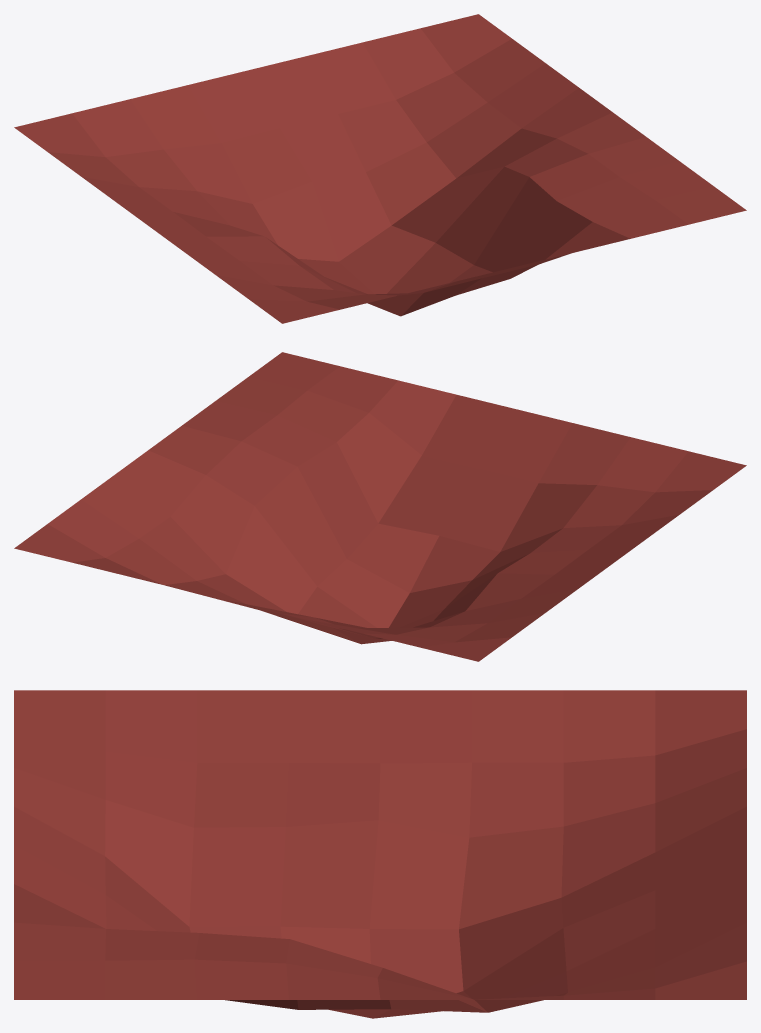
File: Terrain_14_Red.fbx
3 views of the same model, one above another, from view 1: azimuth 30°, elevation 25°; view 2: azimuth 150°, elevation 25°; view 3: azimuth 270°, elevation 25° (orthographic). The views are drawn at different scales.
Visible parts, largest first — view 1: Terrain_14_Red; view 2: Terrain_14_Red; view 3: Terrain_14_Red.
Boxes of the visible parts, x1,y1,x2,y2 form: Terrain_14_Red: [14, 14, 746, 323]; Terrain_14_Red: [14, 352, 746, 661]; Terrain_14_Red: [14, 690, 746, 1018].
Size of the model in its own units: 6000 by 1582 by 6000.
